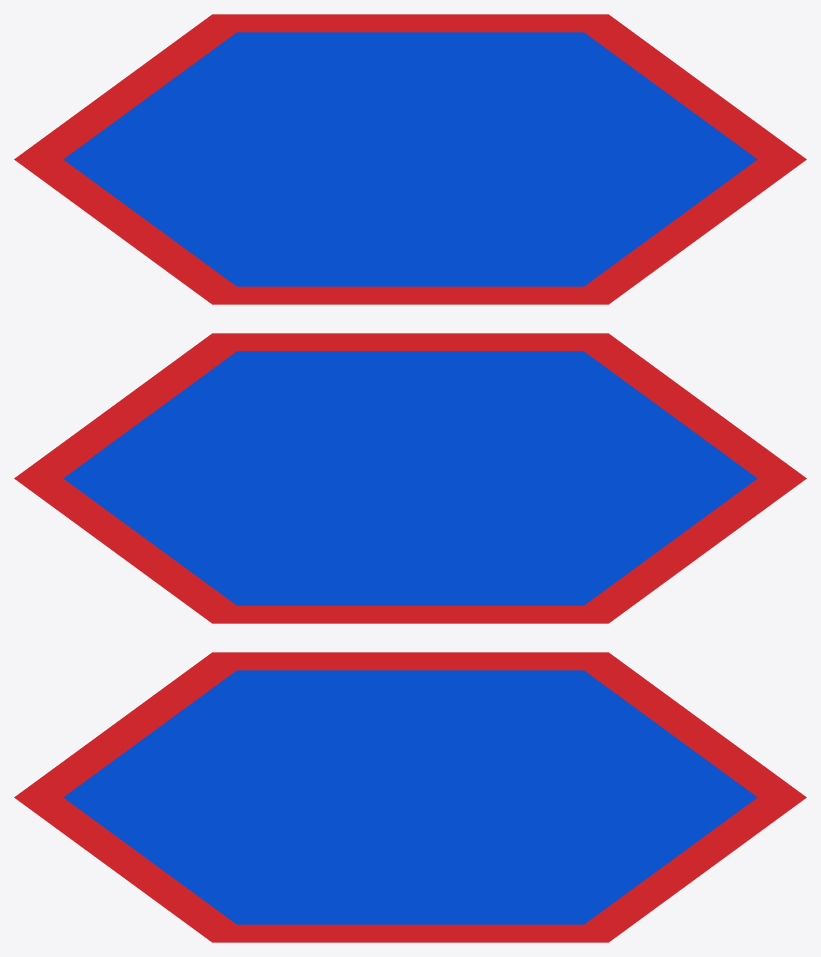
File: hex-pointy-top.fbx
The picture shows the model from 3 angles, top to bottom: view 1: azimuth 30°, elevation 25°; view 2: azimuth 150°, elevation 25°; view 3: azimuth 270°, elevation 25°; orthographic projection.
Visible parts, largest first — view 1: Hex; view 2: Hex; view 3: Hex.
Part boxes in pixels (bbox=[...]): Hex: bbox=[14, 14, 806, 304]; Hex: bbox=[14, 333, 806, 623]; Hex: bbox=[14, 652, 806, 942].
Size of the model in its own units: 173 by 1.19e-05 by 200.
